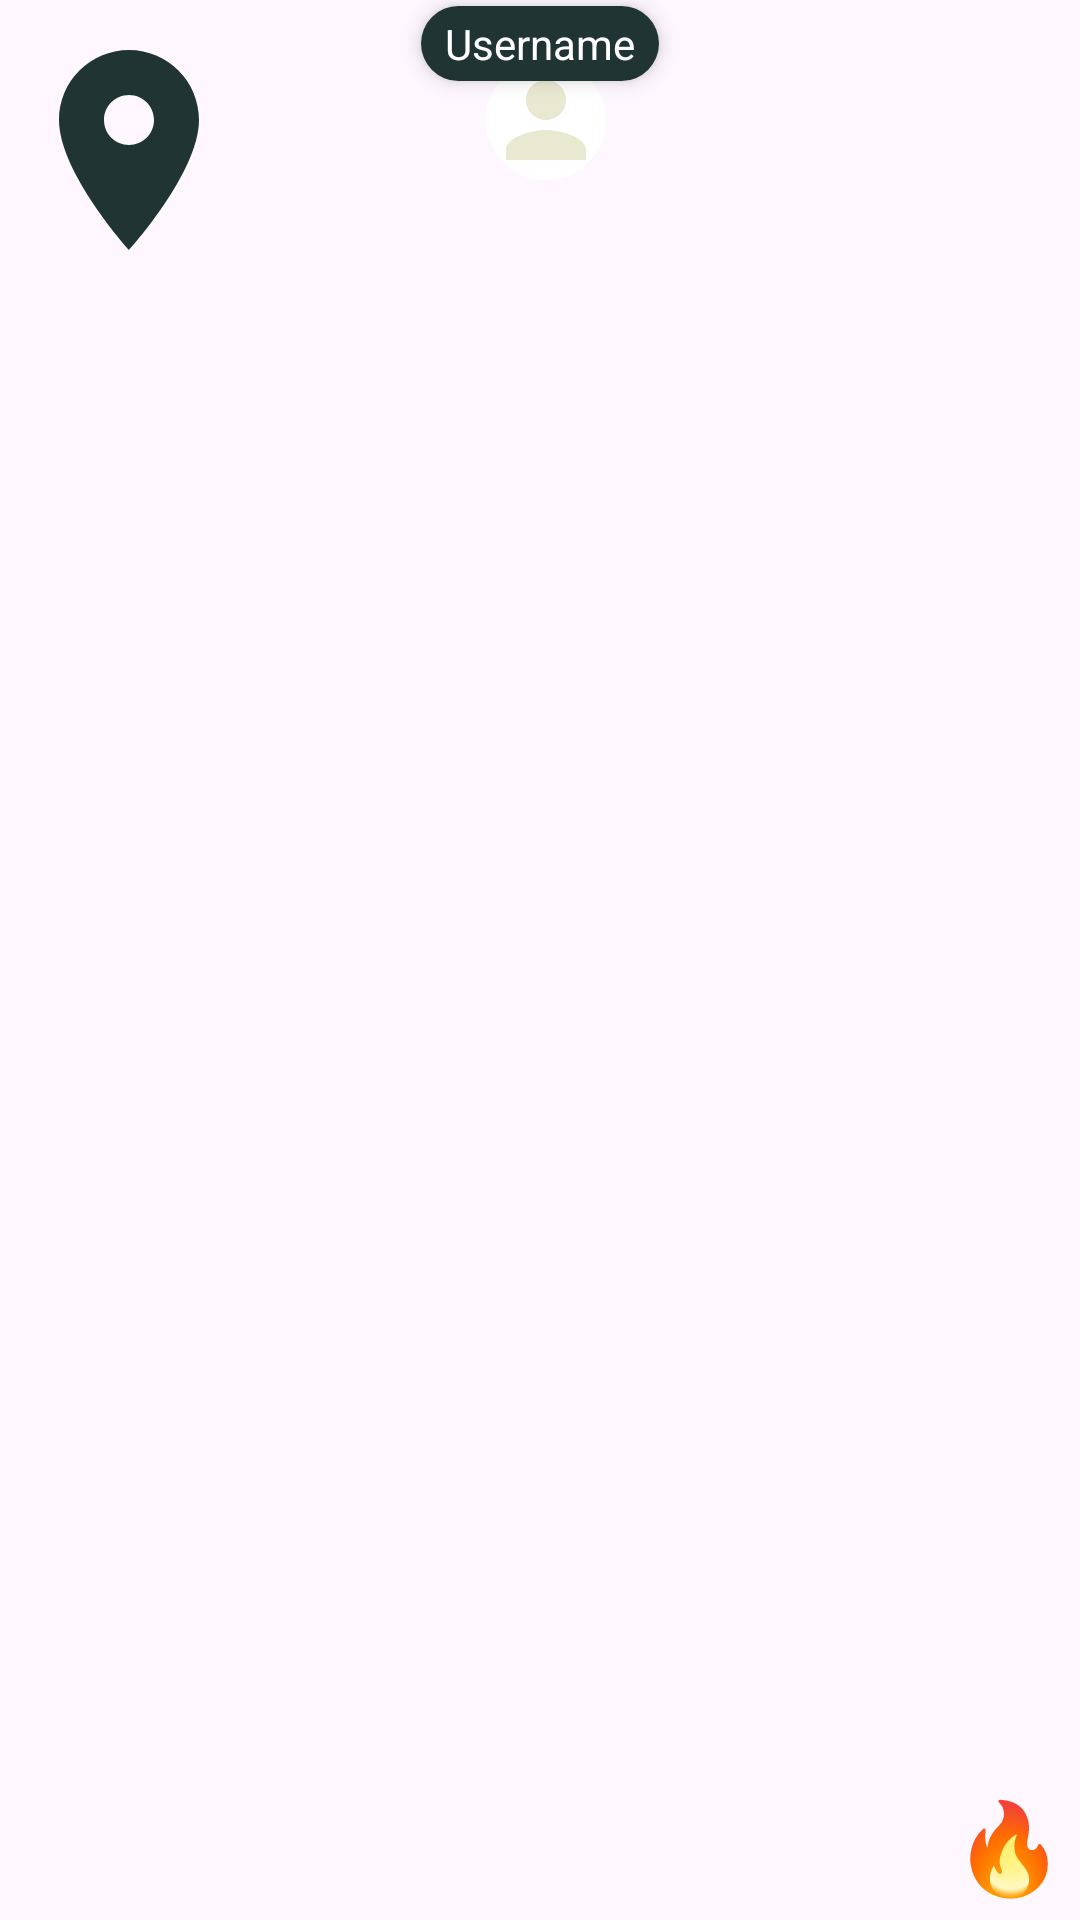

Icons on this 1080px x 1920px Android screen, each with its box as [left=x1, top=y1, right=x2, bottom=y2]:
location: [left=59, top=50, right=199, bottom=250]
person: [left=486, top=60, right=606, bottom=180]
